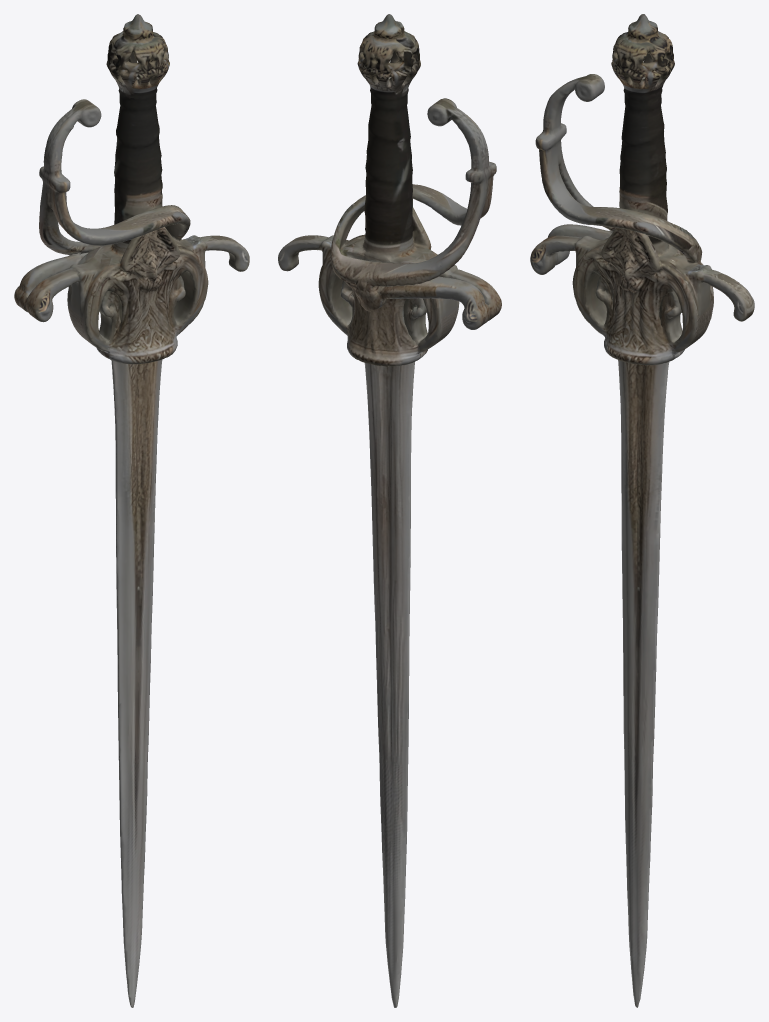
Rendered from Dagger.glb.
3 renders of one model, left to right at view 1: azimuth 30°, elevation 25°; view 2: azimuth 150°, elevation 25°; view 3: azimuth 330°, elevation 25°, orthographic.
Visible parts, largest first — view 1: tripo_node_398cb61b-e91a-43ff-bb23-a781bc3a71f6; view 2: tripo_node_398cb61b-e91a-43ff-bb23-a781bc3a71f6; view 3: tripo_node_398cb61b-e91a-43ff-bb23-a781bc3a71f6.
Boxes of the visible parts, left/top/right/bottom form: tripo_node_398cb61b-e91a-43ff-bb23-a781bc3a71f6: left=14, top=14, right=249, bottom=1007; tripo_node_398cb61b-e91a-43ff-bb23-a781bc3a71f6: left=278, top=14, right=501, bottom=1007; tripo_node_398cb61b-e91a-43ff-bb23-a781bc3a71f6: left=530, top=14, right=754, bottom=1007.
Size of the model in its own units: 0.2282 by 0.9999 by 0.0968.
1 material, 1 textured.
